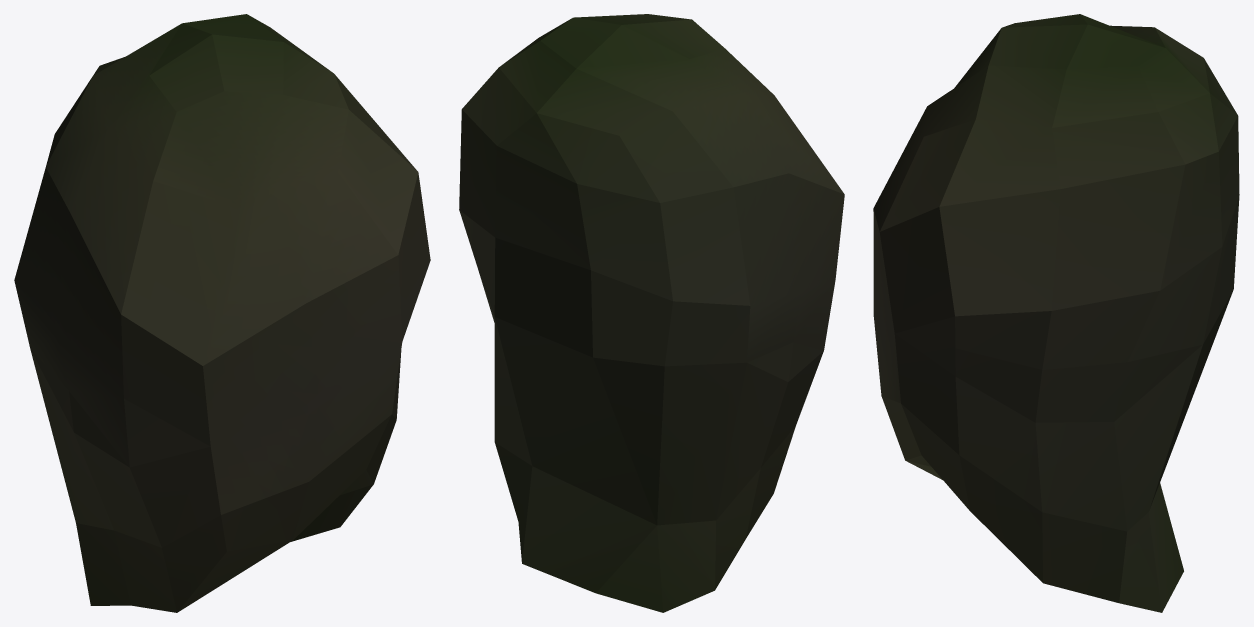
Rendered from MRock_1_v2.1.fbx.
The picture shows the model from 3 angles, left to right: view 1: azimuth 30°, elevation 25°; view 2: azimuth 150°, elevation 25°; view 3: azimuth 270°, elevation 25°; orthographic projection. The views are drawn at different scales.
Parts seen in each view (by area): view 1: pCube46; view 2: pCube46; view 3: pCube46.
Part boxes in pixels (x1=…): pCube46: x1=14, y1=14, x2=430, y2=612; pCube46: x1=459, y1=14, x2=844, y2=612; pCube46: x1=873, y1=14, x2=1239, y2=612.
Bounding box in the file's own units: 182 × 305 × 177.
